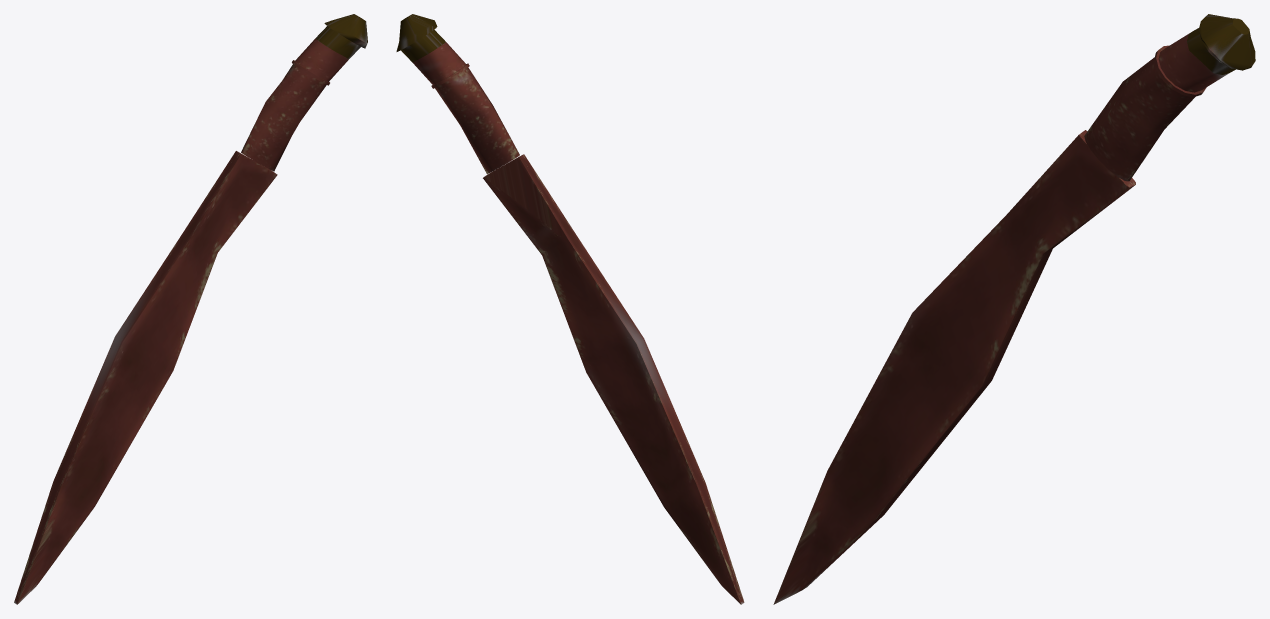
Rendered from kukri cover.fbx.
The picture shows the model from 3 angles, left to right: view 1: azimuth 30°, elevation 25°; view 2: azimuth 150°, elevation 25°; view 3: azimuth 330°, elevation 25°; orthographic projection. The views are drawn at different scales.
Visible parts, largest first — view 1: Kukri_Cover; view 2: Kukri_Cover; view 3: Kukri_Cover.
Boxes of the visible parts, box(x1,y1,x2,y2) form: Kukri_Cover: box(14, 14, 367, 604); Kukri_Cover: box(396, 14, 744, 604); Kukri_Cover: box(773, 14, 1255, 604).
Size of the model in its own units: 7.16 by 9.96 by 0.9152.
1 material, 1 textured.
